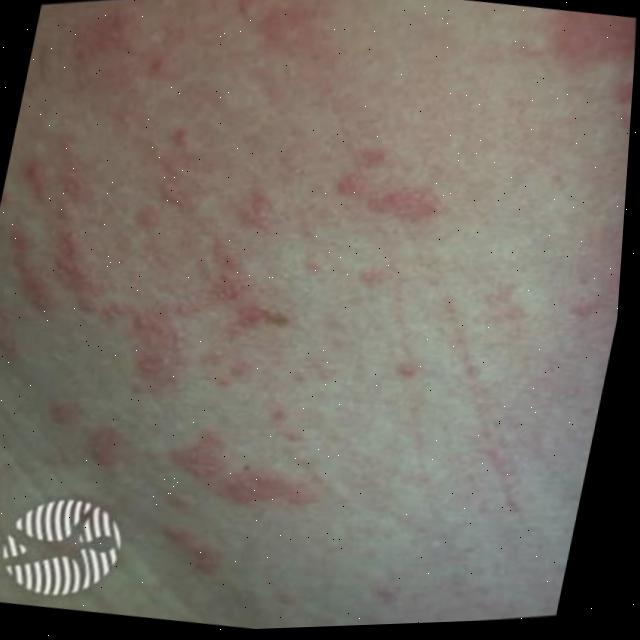Eczema: (0, 0, 474, 608)
